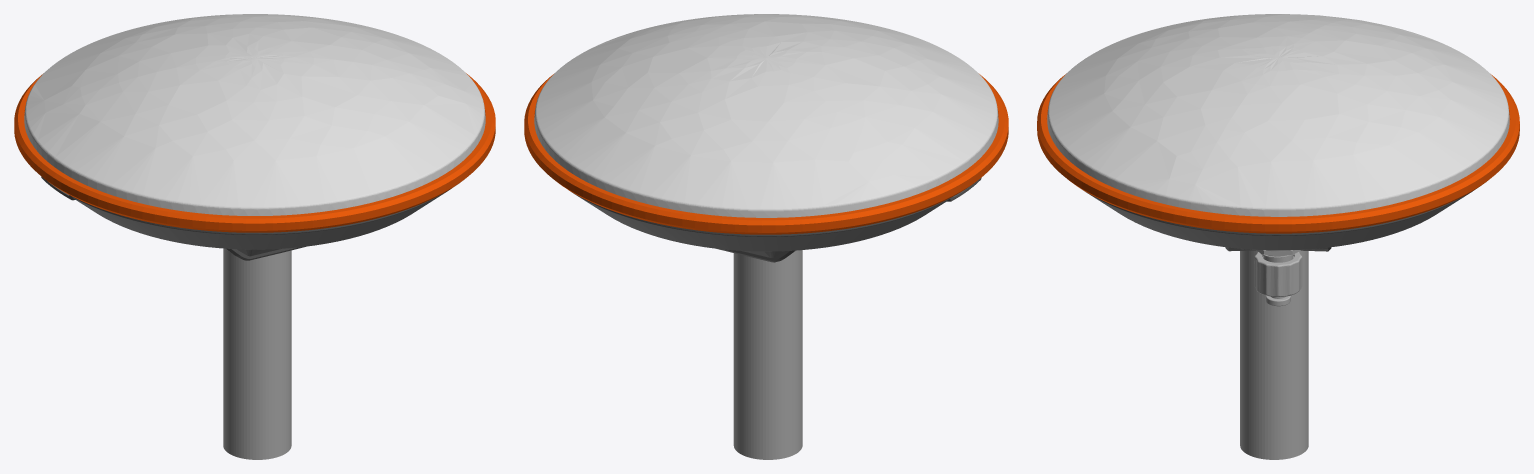
Rendered from antenna_bracket.dae.
3 renders of one model, left to right at view 1: azimuth 30°, elevation 25°; view 2: azimuth 150°, elevation 25°; view 3: azimuth 270°, elevation 25°, orthographic.
Parts seen in each view (by area): view 1: node8, node0.001, node9, node10; view 2: node8, node0.001, node9, node10; view 3: node8, node0.001, node9, node10, node2.
Boxes of the visible parts, bbox=[...] form: node8: bbox=[24, 14, 485, 215]; node0.001: bbox=[223, 248, 291, 459]; node9: bbox=[14, 73, 495, 232]; node10: bbox=[41, 176, 450, 260]; node8: bbox=[534, 14, 998, 217]; node0.001: bbox=[733, 250, 802, 459]; node9: bbox=[524, 74, 1008, 234]; node10: bbox=[571, 177, 981, 262]; node8: bbox=[1047, 14, 1509, 216]; node0.001: bbox=[1240, 250, 1308, 459]; node9: bbox=[1037, 73, 1519, 233]; node10: bbox=[1083, 190, 1472, 251]; node2: bbox=[1254, 252, 1302, 306].
Size of the model in its own units: 0.155 by 0.155 by 0.1372.
